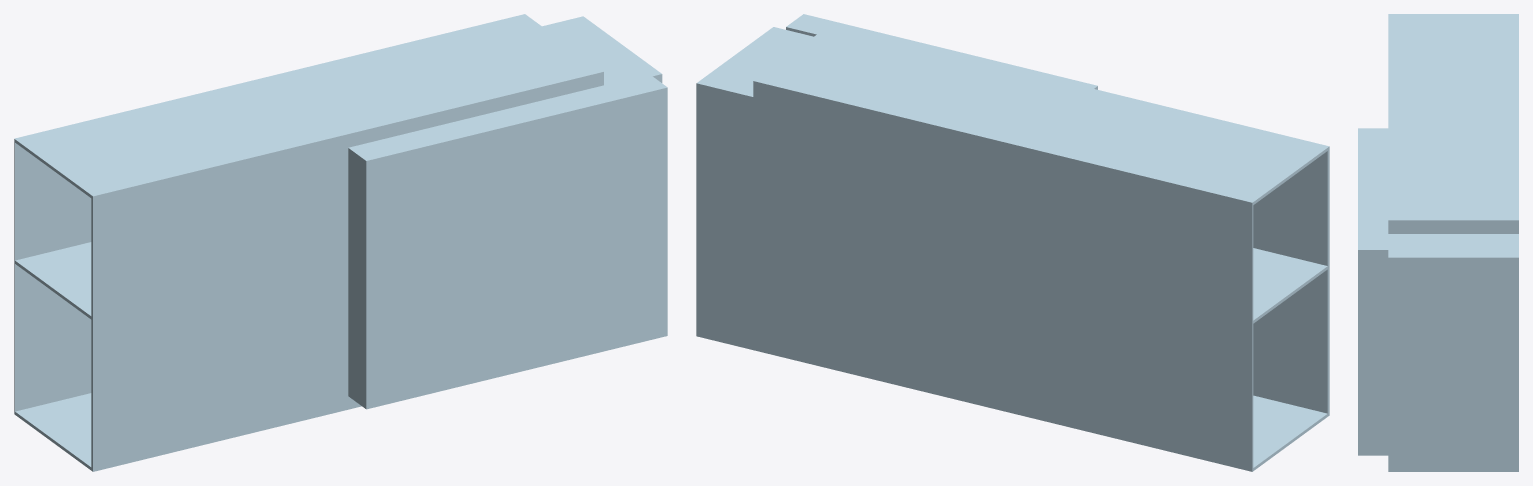
The model's file is room.gltf.
3 views of the same model, side by side, from view 1: azimuth 30°, elevation 25°; view 2: azimuth 150°, elevation 25°; view 3: azimuth 270°, elevation 25° (orthographic). The views are drawn at different scales.
Visible parts, largest first — view 1: Part 1; view 2: Part 1; view 3: Part 1.
Part boxes in pixels (x1,y1,x2,y2): Part 1: (14, 14, 667, 471); Part 1: (696, 14, 1329, 471); Part 1: (1358, 14, 1518, 471).
Size of the model in its own units: 9.17 by 4.24 by 2.71.
